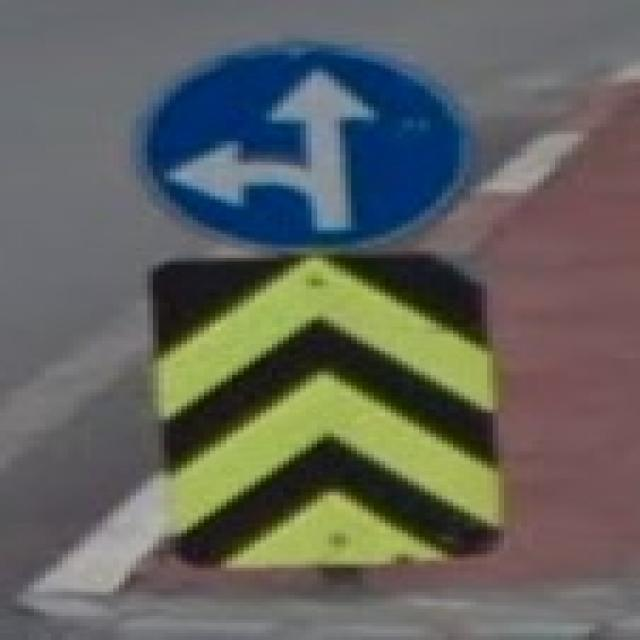Straight or Left: (143, 47, 471, 254)
